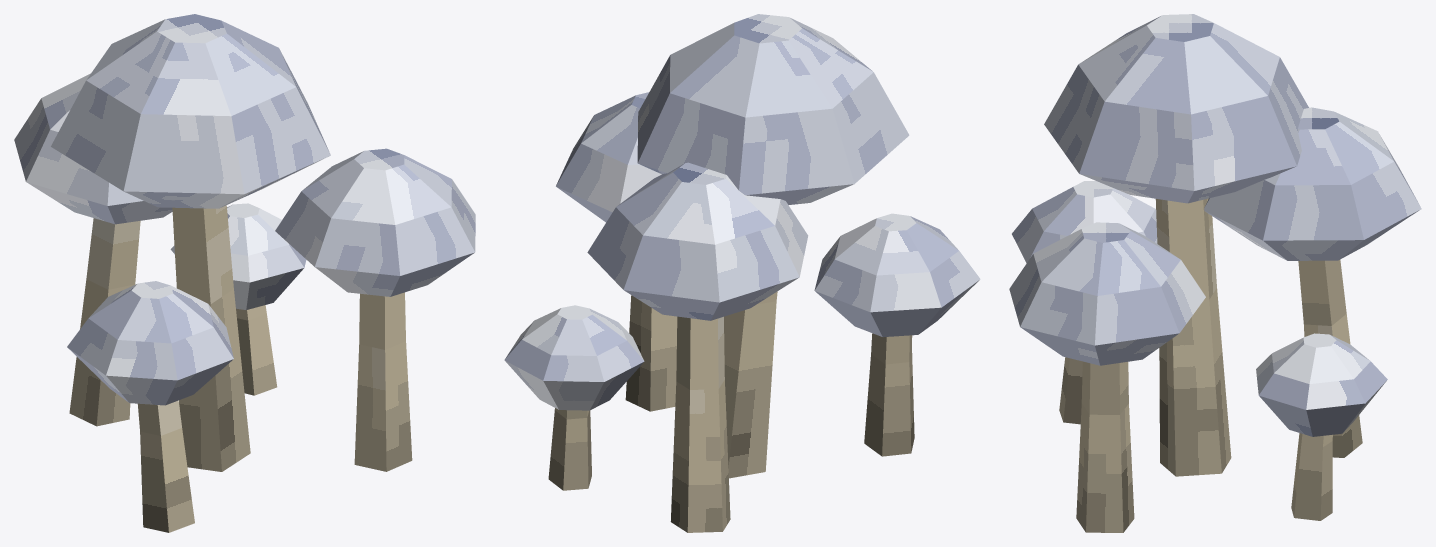
The model's file is moonglow.glb.
3 views of the same model, side by side, from view 1: azimuth 30°, elevation 25°; view 2: azimuth 150°, elevation 25°; view 3: azimuth 270°, elevation 25° (orthographic). The views are drawn at different scales.
Parts seen in each view (by area): view 1: glow_2, glow_4, glow_6, stem_1, stem_3, glow_8, stem_7, stem_5, glow_10, stem_9; view 2: glow_2, glow_8, glow_6, stem_7, glow_10, stem_1, glow_4, stem_5, stem_3, stem_9; view 3: glow_2, glow_4, glow_8, stem_1, glow_10, stem_3, glow_6, stem_7, stem_9, stem_5.
Part boxes in pixels (x1,y1,x2,y2): glow_2: [51, 14, 330, 208]; glow_4: [275, 148, 475, 296]; glow_6: [67, 281, 233, 405]; stem_1: [172, 205, 250, 471]; stem_3: [354, 292, 412, 471]; glow_8: [14, 73, 172, 224]; stem_7: [69, 218, 140, 426]; stem_5: [137, 400, 194, 532]; glow_10: [170, 203, 306, 309]; stem_9: [236, 305, 277, 395]; glow_2: [637, 14, 909, 204]; glow_8: [587, 162, 808, 320]; glow_6: [814, 213, 980, 337]; stem_7: [670, 316, 730, 532]; glow_10: [504, 305, 644, 410]; stem_1: [724, 291, 777, 478]; glow_4: [556, 92, 661, 222]; stem_5: [864, 333, 914, 456]; stem_3: [625, 295, 677, 411]; stem_9: [548, 408, 591, 490]; glow_2: [1044, 14, 1308, 203]; glow_4: [1009, 222, 1205, 365]; glow_8: [1204, 107, 1421, 260]; stem_1: [1155, 198, 1231, 476]; glow_10: [1256, 333, 1387, 436]; stem_3: [1076, 361, 1134, 532]; glow_6: [1012, 181, 1157, 263]; stem_7: [1298, 260, 1362, 457]; stem_9: [1291, 433, 1332, 520]; stem_5: [1059, 357, 1082, 424].
Bounding box in the file's own units: 9.56 × 10.32 × 9.03.
Materials: 1 (1 with a texture image).
